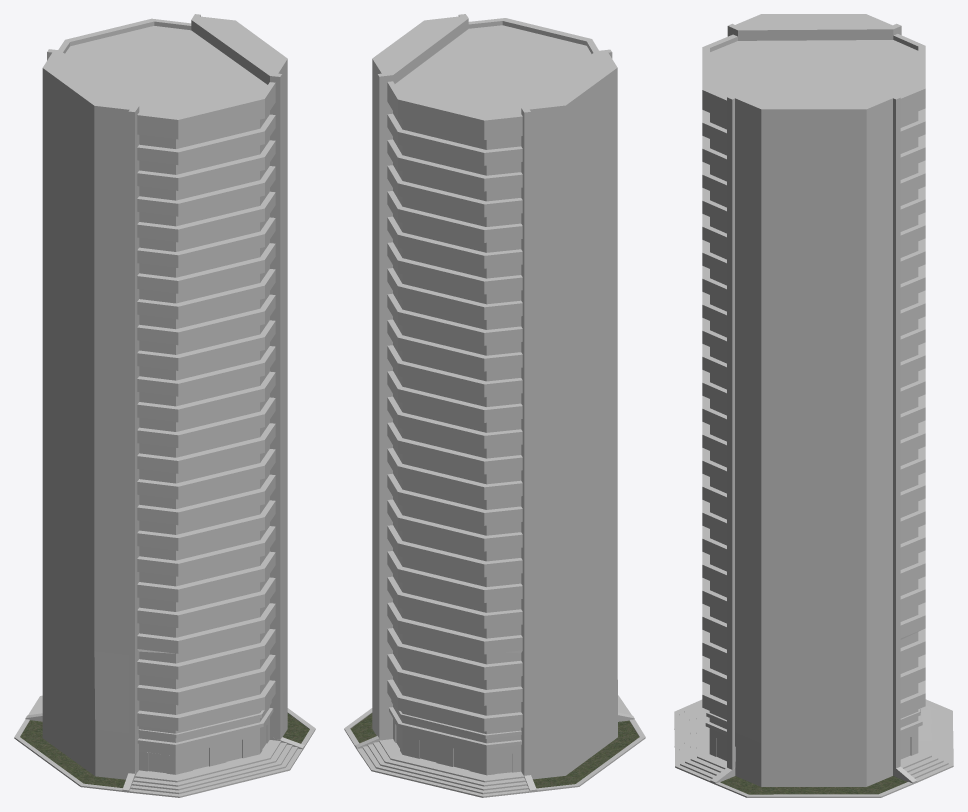
The picture shows the model from 3 angles, left to right: view 1: azimuth 30°, elevation 25°; view 2: azimuth 150°, elevation 25°; view 3: azimuth 270°, elevation 25°; orthographic projection.
Visible parts, largest first — view 1: BC-P03; view 2: BC-P03; view 3: BC-P03.
Part boxes in pixels (bbox=[...]): BC-P03: bbox=[14, 14, 315, 797]; BC-P03: bbox=[344, 14, 645, 797]; BC-P03: bbox=[674, 14, 953, 797].
Size of what is drawn, in the model's own units: 3459 by 9434 by 3524.
